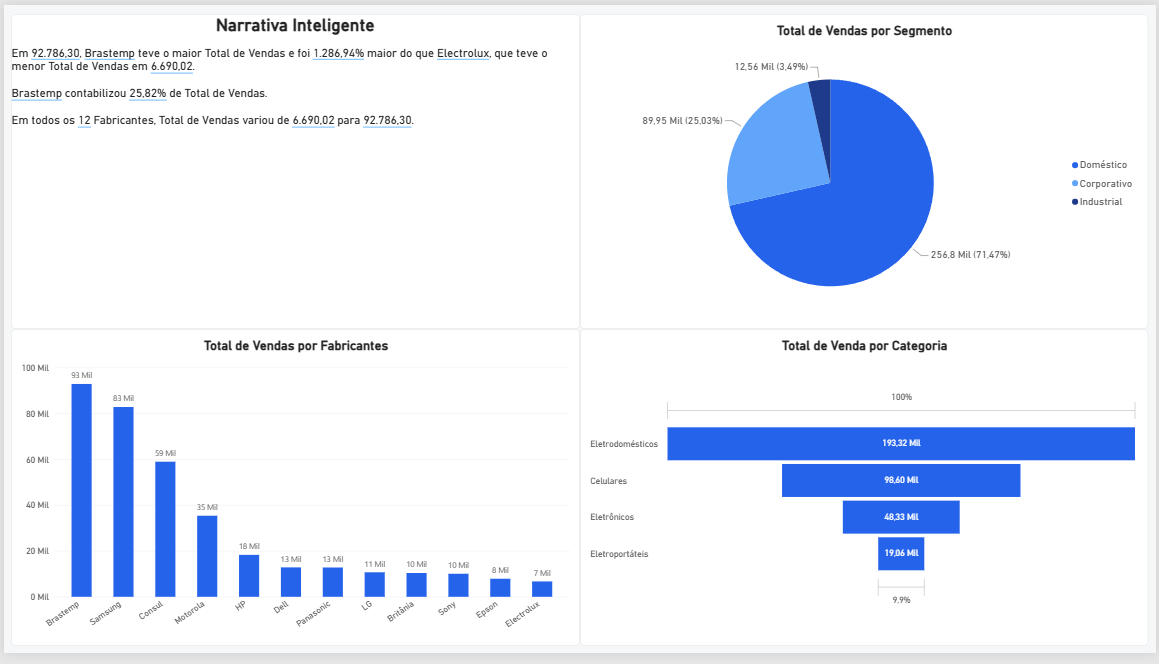

The page's visual inventory and layout, read from the dashboard file:
{"tool":"powerbi","page":{"name":"Narrativa Inteligente","canvas":[1920,1080],"ordinal":1},"visuals":[{"type":"pieChart","title":"Total de Vendas por Segmento","fields":{"Category":["Vendas.Segmento"],"Y":["Sum(Vendas.ValorVenda)"]},"box":[960,15,946.7,525],"z":0},{"type":"clusteredColumnChart","fields":{"Category":["Vendas.Fabricante"],"Y":["Sum(Vendas.ValorVenda)"]},"box":[11.7,540,948.3,528.3],"z":1000},{"type":"funnel","fields":{"Category":["Vendas.Categoria"],"Y":["Sum(Vendas.ValorVenda)"]},"box":[960,540,947,528],"z":2000},{"type":"textbox","box":[12,15,948,525],"z":3000}]}

Visuals, with their boxes in screenshot pixels (x1, y1, x2, y2), scaled from the page's 1920x1080 canvas onto the 1159x664 screenshot:
"Total de Vendas por Segmento" pieChart: 580,9,1151,332
clusteredColumnChart - Vendas.Fabricante x Sum(Vendas.ValorVenda): 7,332,580,657
funnel - Vendas.Categoria x Sum(Vendas.ValorVenda): 580,332,1151,657
textbox: 7,9,580,332
